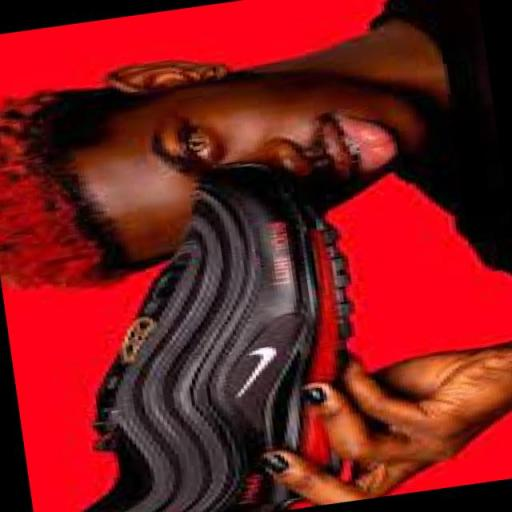Nike: (221, 341, 289, 403)
